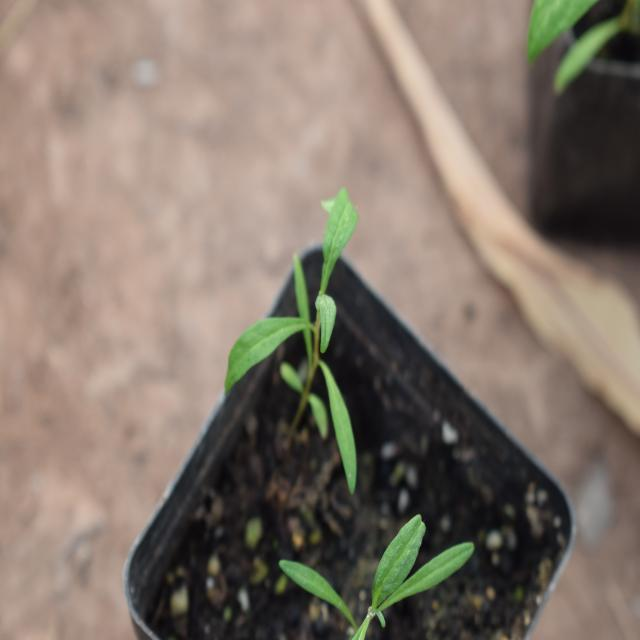white_smart_weed: (223, 197, 384, 468)
